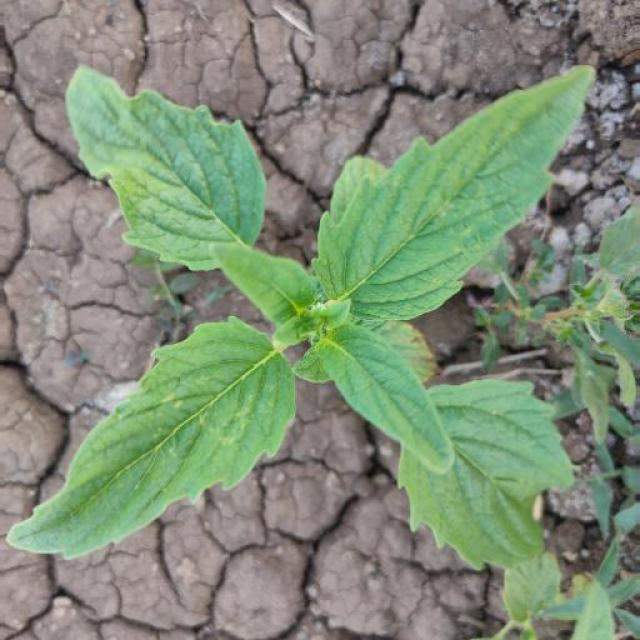crop: (29, 60, 589, 568)
